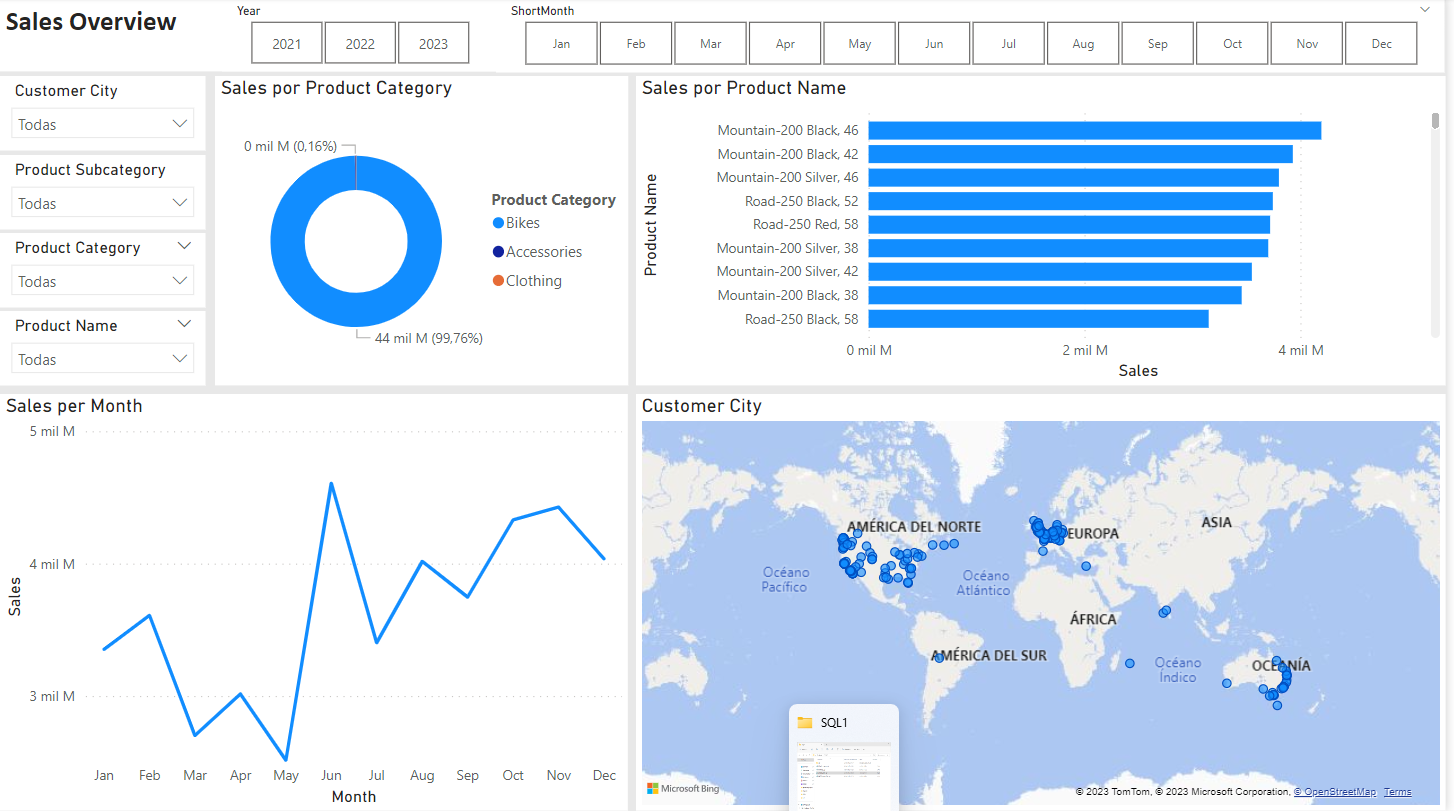

The page's visual inventory and layout, read from the dashboard file:
{"tool":"powerbi","page":{"name":"Página 1","canvas":[1280,720],"ordinal":0},"visuals":[{"type":"textbox","box":[0,0,1273.2,65.3],"z":0},{"type":"slicer","fields":{"Values":["Customers.Customer City"]},"box":[0,69.1,181.9,66.1],"z":1000},{"type":"slicer","fields":{"Values":["Product.Product Subcategory"]},"box":[0,139.1,181.9,66],"z":2000},{"type":"slicer","fields":{"Values":["Product.Product Category"]},"box":[0,208.1,181.9,66],"z":3000},{"type":"slicer","fields":{"Values":["Product.Product Name"]},"box":[0,277.2,181.9,66],"z":4000},{"type":"slicer","fields":{"Values":["InternetSales.Year"]},"box":[196.9,0,242.7,65.3],"z":5000},{"type":"slicer","fields":{"Values":["Dates.ShortMonth"]},"box":[439.7,0,840.3,66.3],"z":6000},{"type":"donutChart","fields":{"Category":["Product.Product Category"],"Y":["InternetSales.Sales"]},"box":[190.1,69.2,365.6,273.9],"z":7000},{"type":"lineChart","title":"Sales per Month","fields":{"Y":["InternetSales.Sales"],"Category":["Dates.ShortMonth"]},"box":[0,351,555.7,369.5],"z":8000},{"type":"barChart","fields":{"Category":["Product.Product Name"],"Y":["InternetSales.Sales"]},"box":[562.9,68.8,717.1,274.1],"z":9000},{"type":"map","fields":{"Category":["Customers.Customer City"]},"box":[563,351,717,369],"z":10000}]}

Visuals, with their boxes in screenshot pixels (x1, y1, x2, y2), scaled from the page's 1280x720 canvas onto the 1454x811 screenshot:
textbox: [0,0,1446,74]
slicer - Customers.Customer City: [0,78,207,152]
slicer - Product.Product Subcategory: [0,157,207,231]
slicer - Product.Product Category: [0,234,207,309]
slicer - Product.Product Name: [0,312,207,387]
slicer - InternetSales.Year: [224,0,499,74]
slicer - Dates.ShortMonth: [499,0,1453,75]
donutChart - Product.Product Category x InternetSales.Sales: [216,78,631,386]
"Sales per Month" lineChart: [0,395,631,810]
barChart - Product.Product Name x InternetSales.Sales: [639,77,1453,386]
map - Customers.Customer City: [640,395,1453,810]
